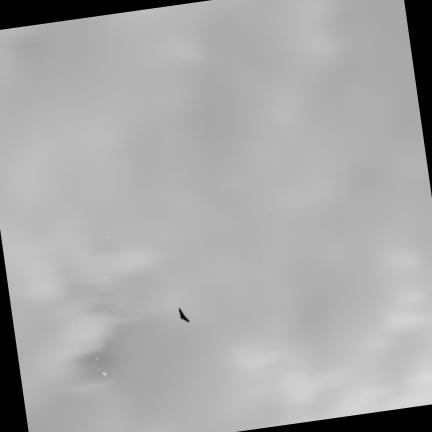Shahed: (178, 306, 190, 321)
